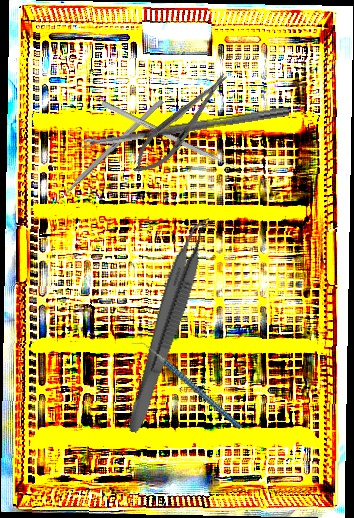Chopper: (130, 315, 244, 455)
Needle Holder: (124, 64, 238, 184)
Pusher: (46, 97, 164, 213), (100, 100, 247, 176)
Surgical Spoon: (80, 105, 290, 149)
Tissue Forceps: (124, 212, 216, 438)
